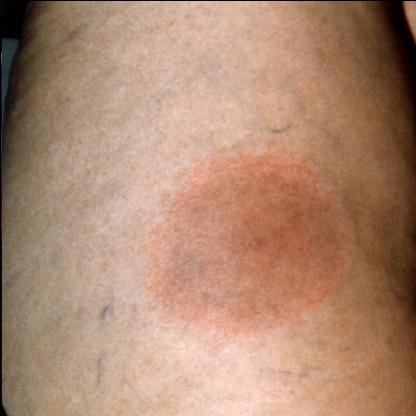Fire ant: (168, 199, 206, 233)
